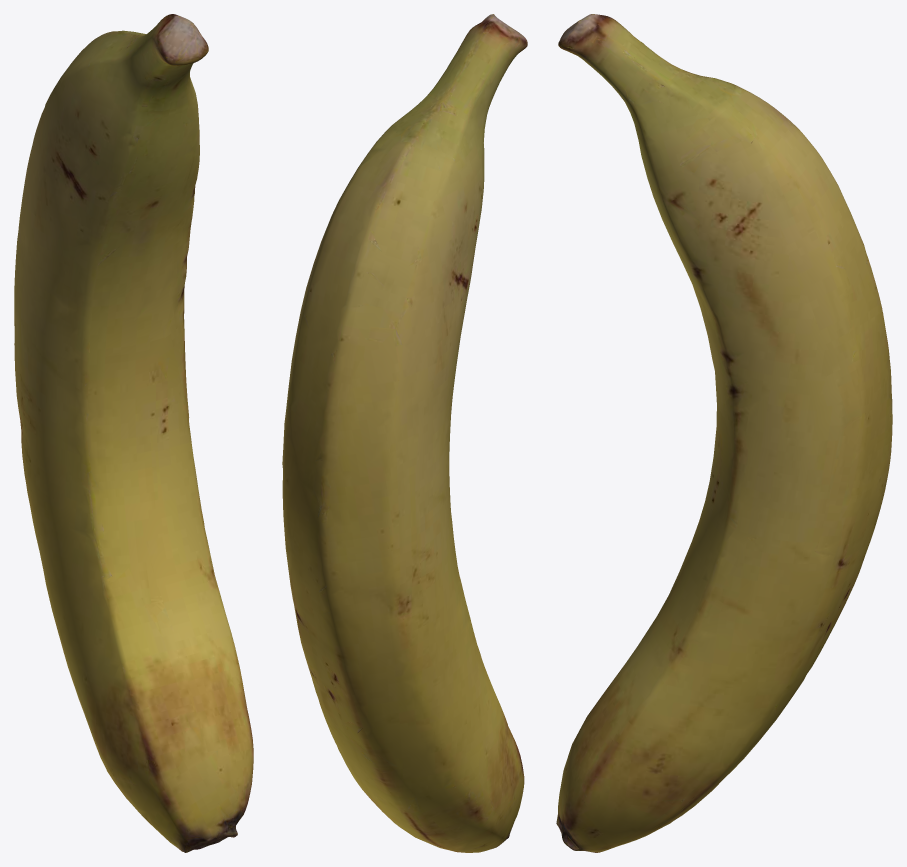
Rendered from banana_fb1b6fc4_visual.obj.
The picture shows the model from 3 angles, left to right: view 1: azimuth 30°, elevation 25°; view 2: azimuth 150°, elevation 25°; view 3: azimuth 270°, elevation 25°; orthographic projection.
Bounding box in the file's own units: 0.0343 × 0.2 × 0.0739.
Materials: 1 (1 with a texture image).
